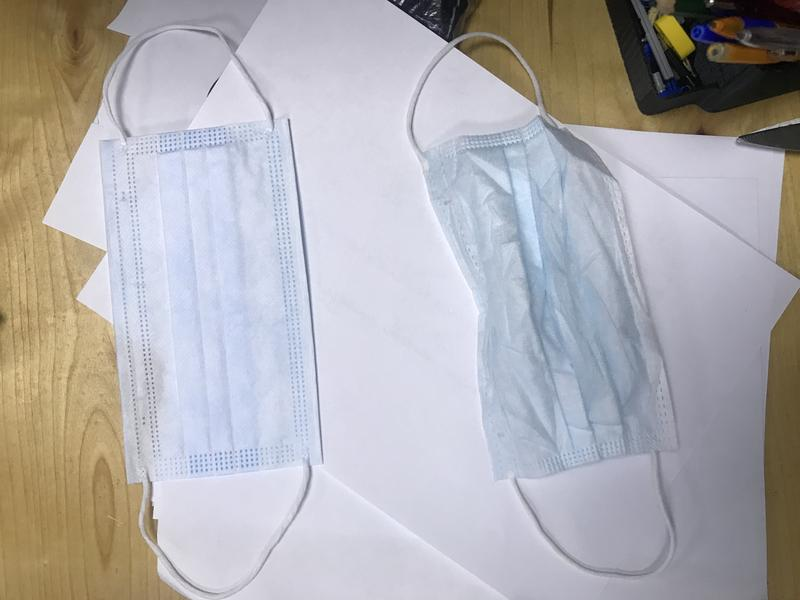medical_mask: (407, 31, 678, 581), (98, 24, 325, 600)
